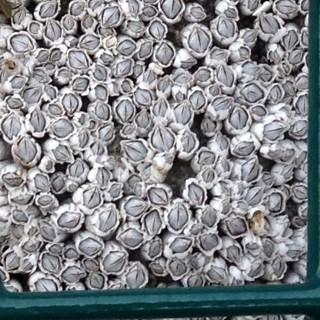Barnacle: (1, 98, 24, 139), (144, 242, 165, 278), (217, 5, 238, 39), (101, 249, 128, 272), (196, 230, 221, 253), (152, 126, 173, 153), (191, 24, 209, 55), (50, 116, 74, 139), (17, 138, 39, 163), (119, 226, 144, 248), (9, 34, 36, 54), (241, 156, 260, 184), (169, 204, 188, 232), (240, 82, 264, 104), (124, 141, 149, 162), (144, 211, 164, 237), (34, 274, 56, 297), (263, 121, 287, 142), (80, 237, 105, 257), (259, 13, 281, 35), (228, 107, 249, 130), (60, 211, 84, 231), (68, 49, 90, 70), (147, 185, 170, 205), (83, 183, 102, 207), (217, 63, 235, 88), (126, 265, 144, 290), (155, 43, 173, 67), (116, 99, 134, 123), (173, 100, 190, 125), (188, 182, 205, 207), (102, 4, 121, 26), (124, 198, 146, 217), (162, 0, 182, 20), (61, 267, 86, 283), (39, 221, 58, 242), (44, 20, 62, 42), (99, 209, 116, 232), (197, 148, 217, 167), (41, 252, 60, 272), (292, 184, 313, 202), (2, 251, 20, 272), (169, 258, 187, 279), (63, 93, 78, 118), (29, 111, 46, 133), (233, 140, 256, 156), (1, 168, 24, 184), (291, 118, 310, 137), (136, 88, 154, 108), (171, 237, 191, 255), (246, 187, 263, 208), (267, 194, 283, 216), (296, 93, 311, 116), (229, 218, 248, 236), (282, 30, 299, 50), (24, 87, 41, 107), (246, 258, 263, 278), (190, 91, 206, 112), (154, 98, 169, 120), (94, 104, 112, 122), (97, 123, 115, 141), (39, 0, 58, 17), (149, 22, 166, 41), (201, 210, 218, 229), (277, 0, 297, 16), (81, 34, 101, 50), (241, 28, 258, 46), (117, 40, 135, 57), (137, 42, 154, 60), (289, 48, 306, 66), (92, 65, 109, 83), (209, 46, 228, 62), (201, 116, 217, 135), (273, 256, 286, 279), (10, 192, 31, 206), (258, 67, 274, 85), (213, 97, 231, 113), (51, 176, 66, 195), (183, 132, 196, 153), (215, 132, 228, 153), (69, 0, 86, 16), (116, 60, 132, 77), (72, 76, 90, 91), (23, 237, 41, 252), (32, 174, 48, 190), (190, 6, 207, 21), (10, 74, 27, 89), (56, 143, 71, 160), (218, 179, 233, 196), (193, 70, 211, 84), (126, 20, 145, 33), (97, 166, 110, 185), (263, 239, 276, 258), (124, 0, 139, 16), (91, 142, 106, 158), (68, 162, 83, 178), (261, 172, 276, 188), (37, 194, 53, 209), (218, 200, 233, 216), (89, 274, 104, 290), (141, 5, 158, 19), (241, 62, 258, 76), (279, 165, 293, 182), (227, 245, 241, 262), (209, 267, 226, 281), (136, 111, 149, 129), (203, 167, 216, 185), (143, 70, 158, 85), (281, 148, 296, 163), (108, 184, 122, 200), (252, 106, 269, 119), (76, 132, 89, 149), (174, 74, 192, 86), (270, 87, 282, 105), (99, 51, 114, 65), (283, 81, 298, 95), (81, 15, 94, 31), (295, 151, 308, 167), (260, 219, 273, 235), (237, 46, 251, 60), (50, 48, 64, 62), (33, 70, 47, 84), (297, 76, 311, 90), (157, 78, 171, 92), (95, 86, 109, 100), (15, 209, 29, 223), (221, 158, 233, 174), (13, 12, 26, 26), (268, 49, 281, 63), (141, 167, 154, 181), (188, 258, 201, 272), (181, 57, 196, 69), (46, 105, 61, 117), (121, 126, 136, 138), (4, 0, 23, 9), (63, 16, 75, 30), (99, 26, 114, 37), (46, 86, 57, 101), (0, 207, 10, 223), (248, 0, 261, 12), (36, 51, 49, 63), (209, 85, 221, 98), (65, 249, 78, 261), (281, 61, 292, 75), (121, 80, 133, 92), (126, 177, 138, 189), (86, 260, 98, 272), (88, 0, 101, 11), (133, 64, 144, 77), (235, 184, 245, 198), (106, 37, 117, 49), (68, 186, 81, 196), (22, 261, 32, 274), (59, 70, 70, 81), (188, 226, 199, 237), (268, 148, 280, 158), (0, 229, 8, 244), (283, 97, 293, 108), (164, 156, 175, 166), (45, 161, 54, 172), (50, 245, 61, 254)
